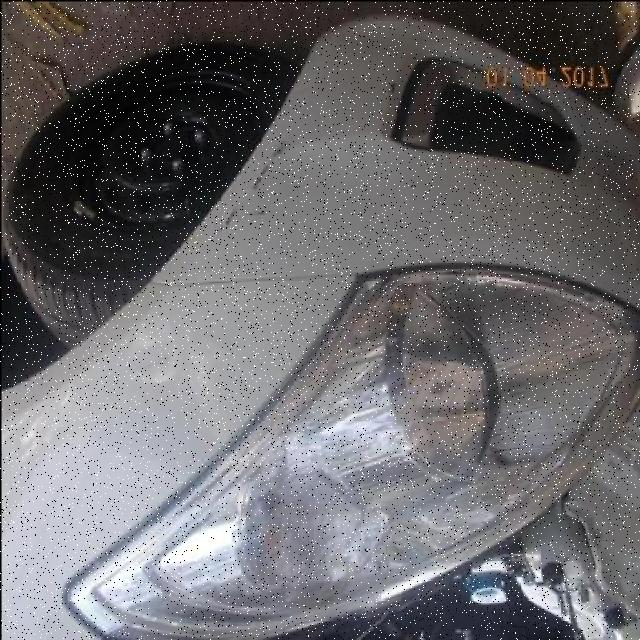damage: (248, 134, 288, 194), (212, 201, 241, 242), (238, 206, 276, 221)
